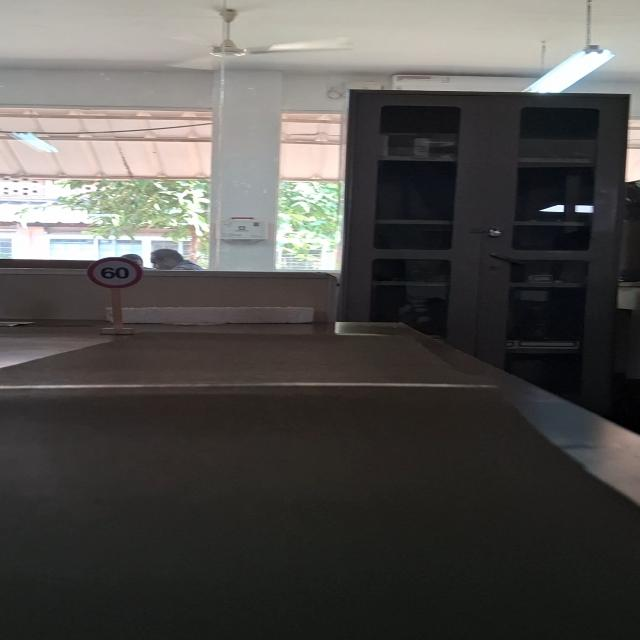Speed60: (85, 255, 144, 290)
